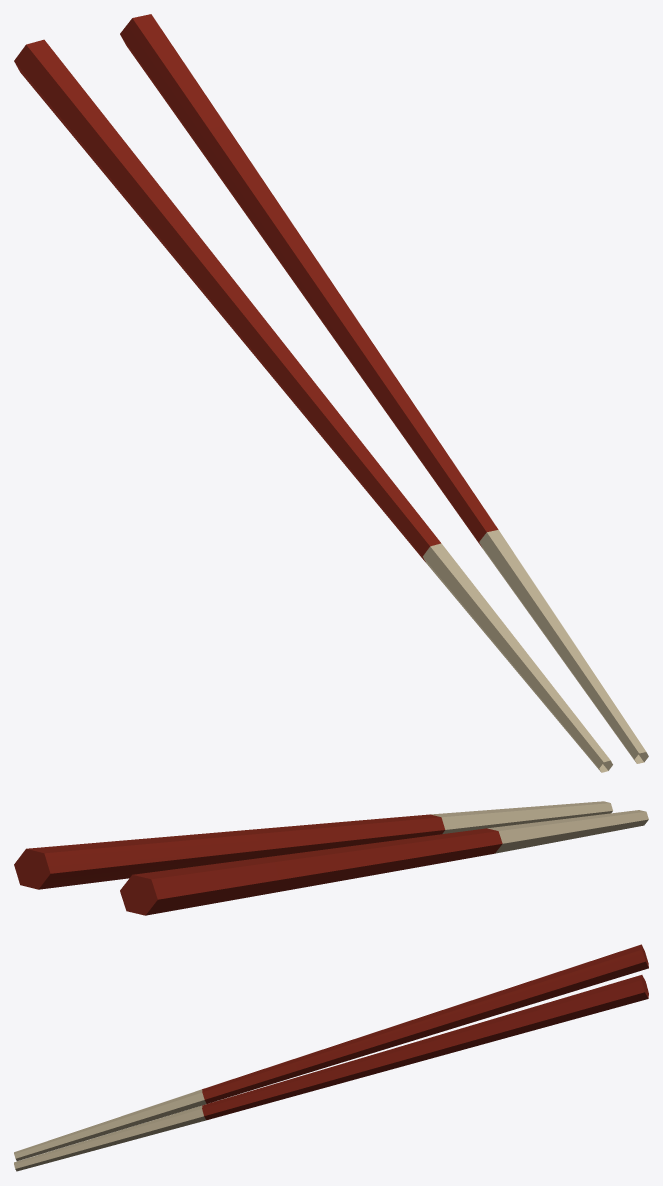
Rendered from hashi.glb.
3 renders of one model, top to bottom at view 1: azimuth 30°, elevation 25°; view 2: azimuth 150°, elevation 25°; view 3: azimuth 270°, elevation 25°, orthographic. The views are drawn at different scales.
Visible parts, largest first — view 1: hashi; view 2: hashi; view 3: hashi.
Part boxes in pixels (bbox=[...]): hashi: bbox=[14, 14, 648, 772]; hashi: bbox=[14, 801, 648, 915]; hashi: bbox=[14, 944, 648, 1171].
Size of the model in its own units: 0.0324 by 0.0748 by 0.2117.
